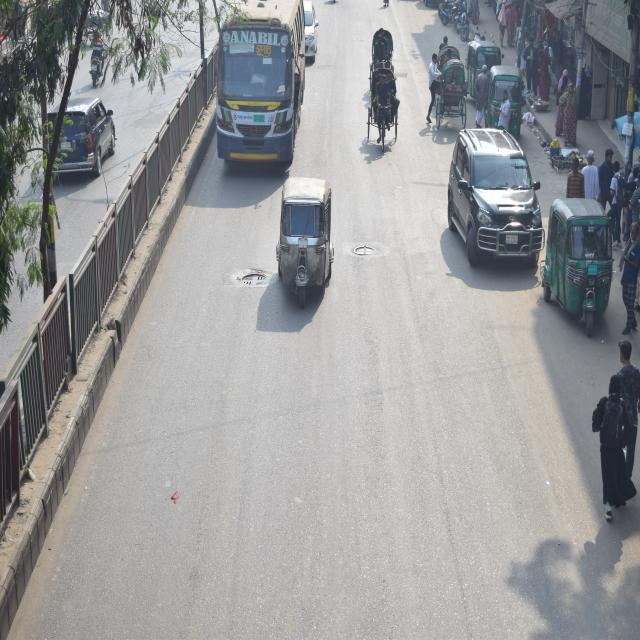bus: (216, 0, 301, 163)
car: (442, 128, 542, 264), (40, 89, 116, 179)
motorbike: (82, 44, 107, 86)
